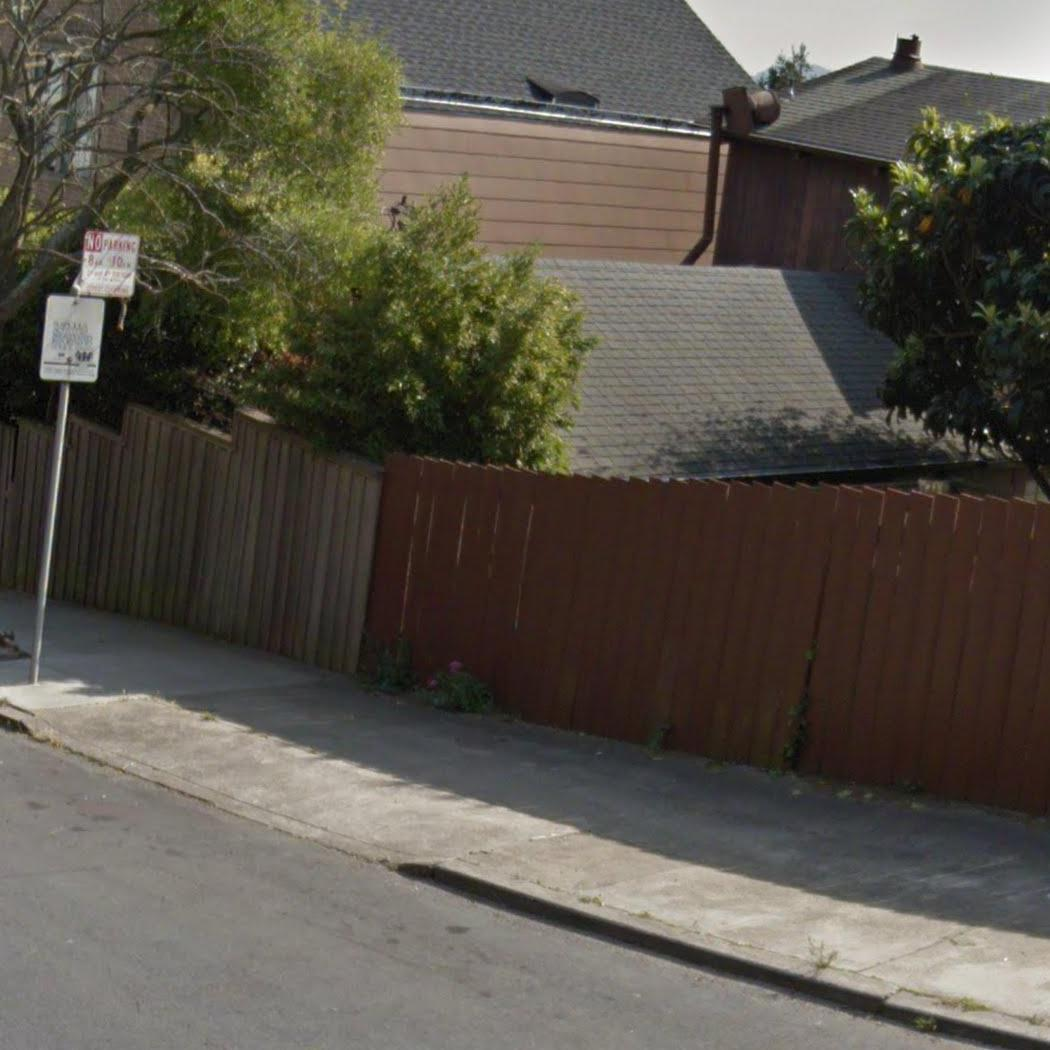No Parking: (76, 225, 144, 300)
